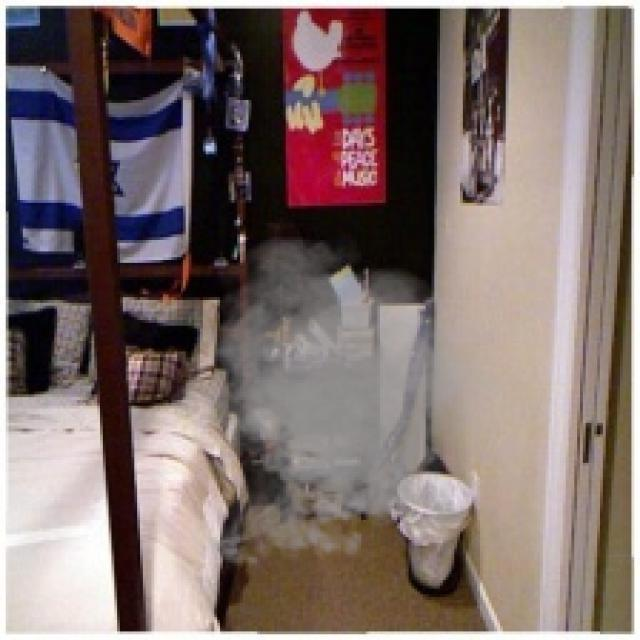Smoke: (155, 232, 520, 577)
